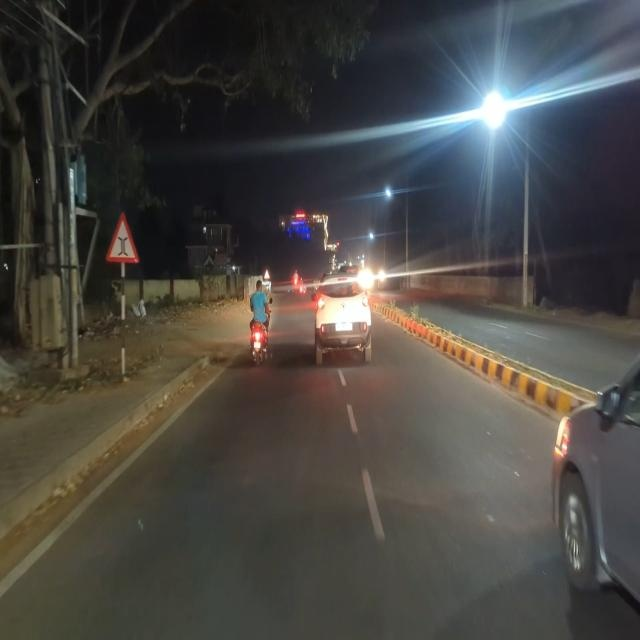bien_nguy_hiem: (105, 210, 139, 264)
